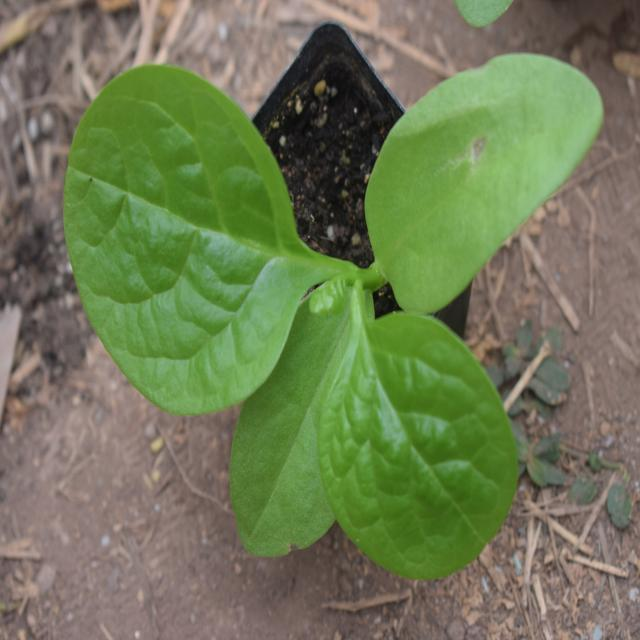Ceylon spinach: (66, 65, 574, 564)
